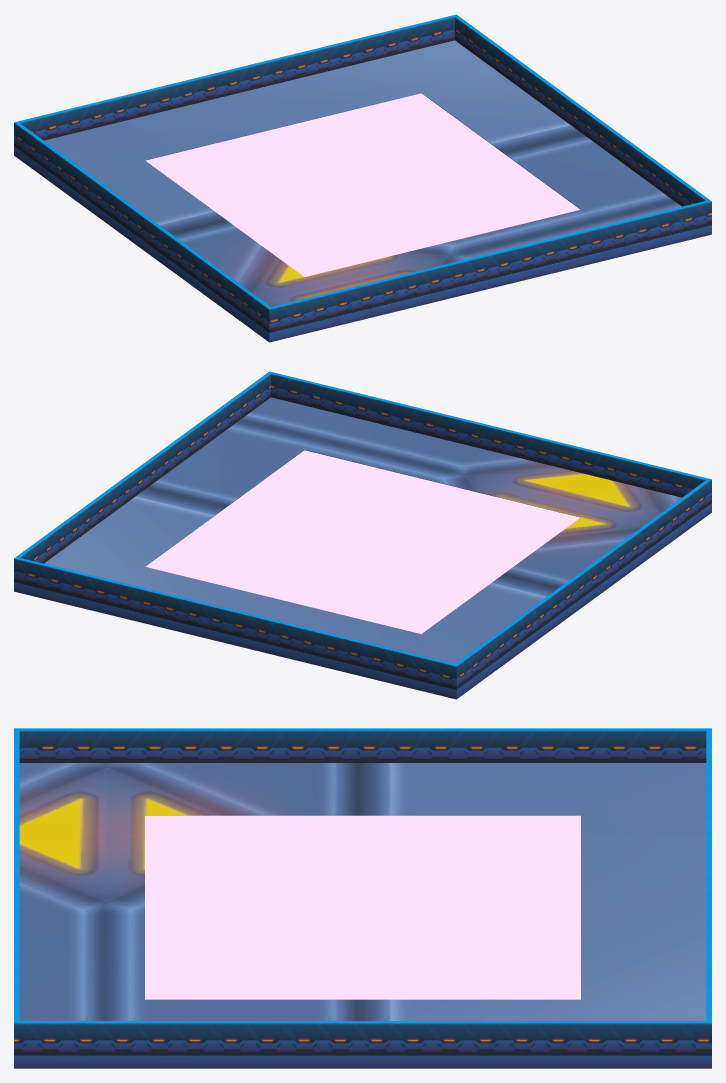
The model's file is Duel_Stage 47.fbx.
3 renders of one model, top to bottom at view 1: azimuth 30°, elevation 25°; view 2: azimuth 150°, elevation 25°; view 3: azimuth 270°, elevation 25°, orthographic. The views are drawn at different scales.
Visible parts, largest first — view 1: DB_Platform_Cube_Floor.009, Plane.021, DB_Platform_Cube_Floor.010; view 2: DB_Platform_Cube_Floor.009, Plane.021, DB_Platform_Cube_Floor.010; view 3: DB_Platform_Cube_Floor.009, Plane.021, DB_Platform_Cube_Floor.010.
Boxes of the visible parts, x1,y1,x2,y2 form: DB_Platform_Cube_Floor.009: [14, 40, 711, 342]; Plane.021: [145, 93, 580, 276]; DB_Platform_Cube_Floor.010: [14, 14, 711, 332]; DB_Platform_Cube_Floor.009: [14, 397, 711, 699]; Plane.021: [145, 450, 580, 633]; DB_Platform_Cube_Floor.010: [14, 371, 711, 689]; DB_Platform_Cube_Floor.009: [14, 763, 711, 1068]; Plane.021: [145, 815, 580, 999]; DB_Platform_Cube_Floor.010: [14, 728, 711, 1055].
Bounding box in the file's own units: 4800 × 343 × 4800.
